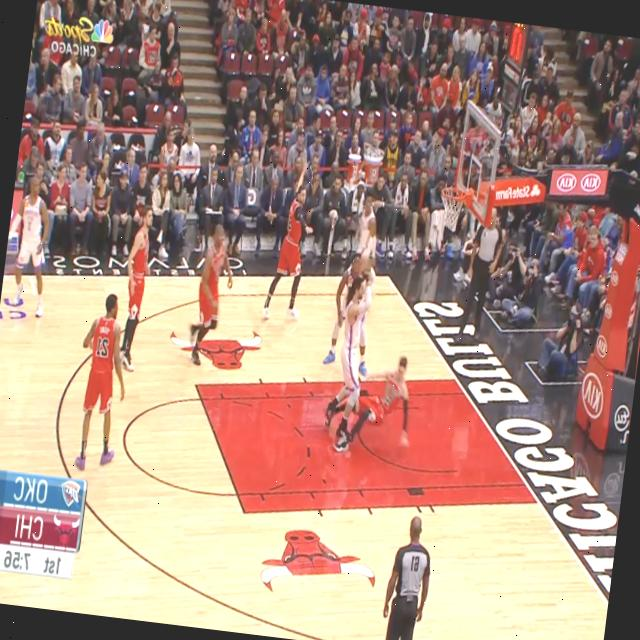foul: (309, 251, 434, 469)
